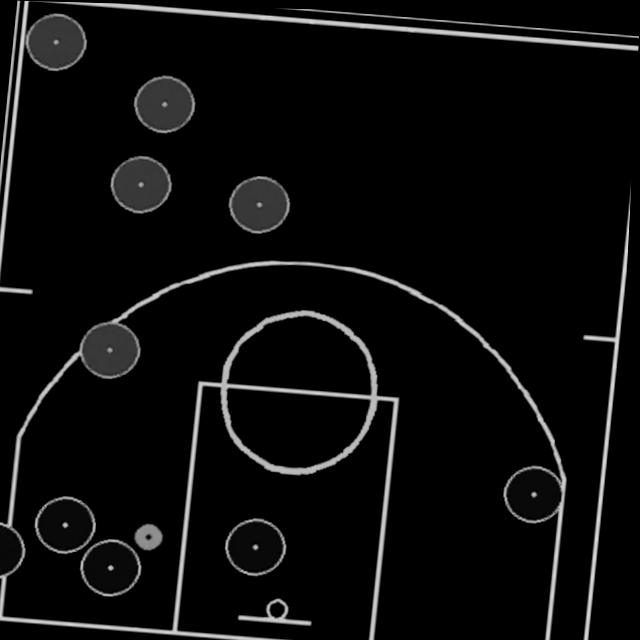Basketball: (137, 517, 172, 552)
Team_A: (227, 513, 294, 575), (37, 492, 104, 554), (83, 535, 148, 597), (505, 459, 569, 521), (0, 519, 32, 580)
Team_B: (131, 71, 199, 134), (227, 171, 295, 233), (108, 152, 176, 214), (80, 317, 146, 380), (22, 10, 89, 72)
